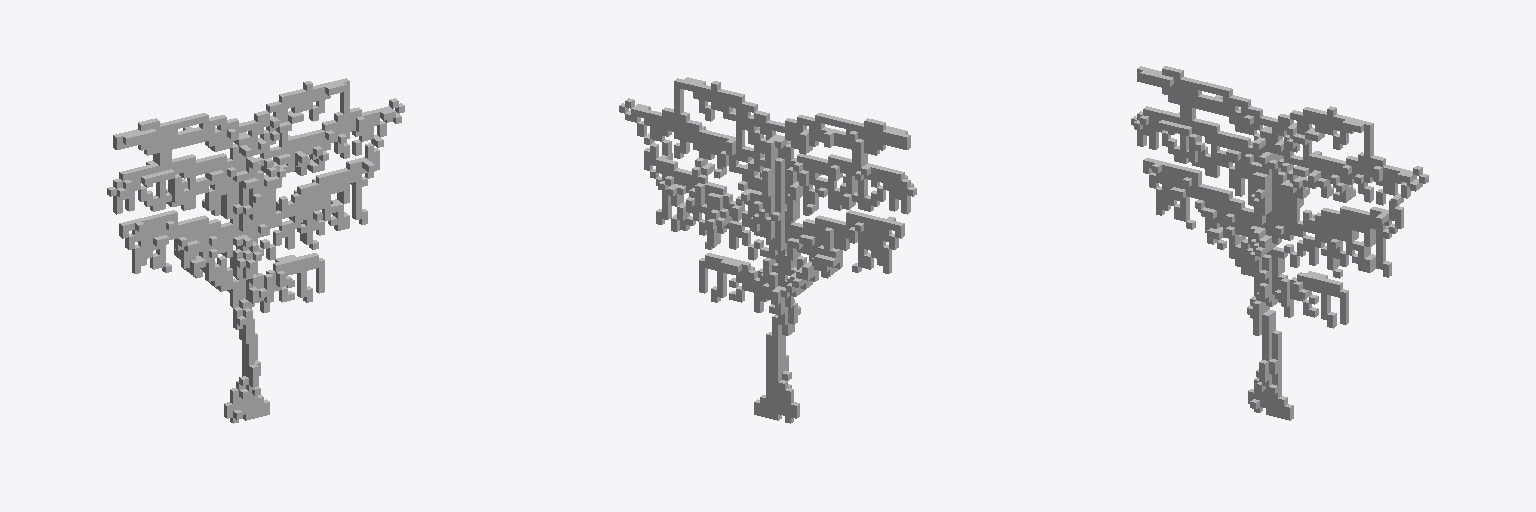
File: JungleTree.obj
The picture shows the model from 3 angles: view 1: azimuth 30°, elevation 25°; view 2: azimuth 150°, elevation 25°; view 3: azimuth 330°, elevation 25°; orthographic projection.
Visible parts, largest first — view 1: grass; view 2: grass; view 3: grass.
Boxes of the visible parts, box(x1,y1,x2,y2) form: grass: box(107, 78, 404, 423); grass: box(619, 77, 916, 423); grass: box(1131, 66, 1428, 420).
Bounding box in the file's own units: 4.8 × 5 × 0.7.